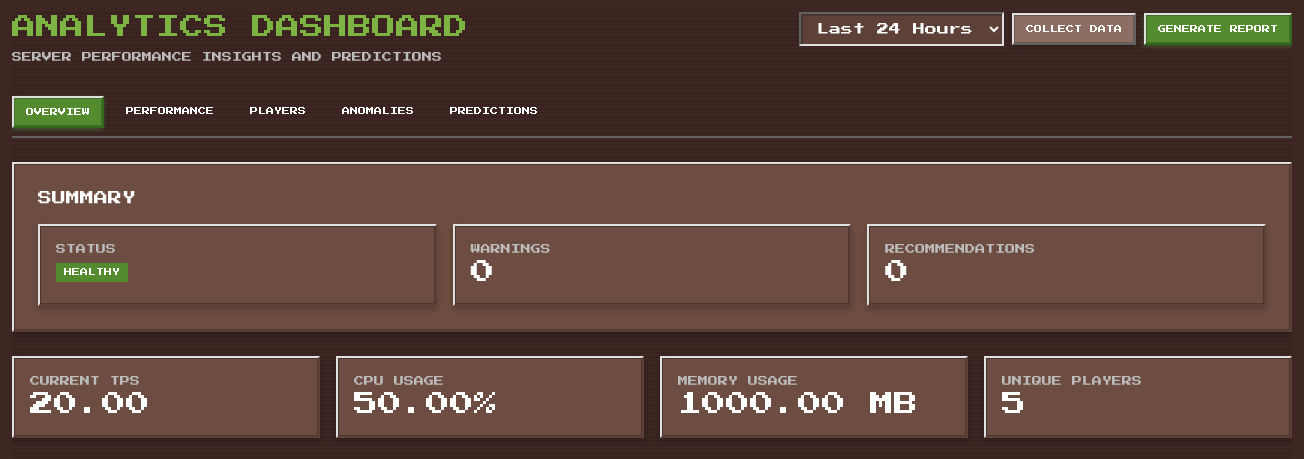
it: Analytics › displays no anomalies message when none detected
Expected: the heading "Summary" is shown, left=38, top=191, right=136, bottom=205
Click the button "ANOMALIES". click: {"x": 378, "y": 112}
box: left=328, top=96, right=428, bottom=128
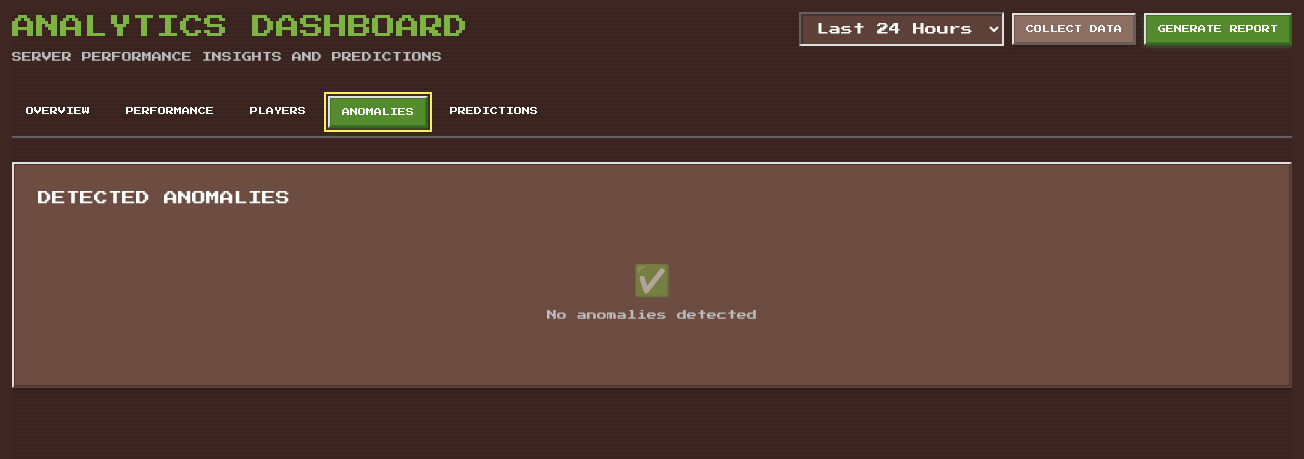
Expected: the text "No anomalies detected" is shown, left=547, top=308, right=757, bottom=322
